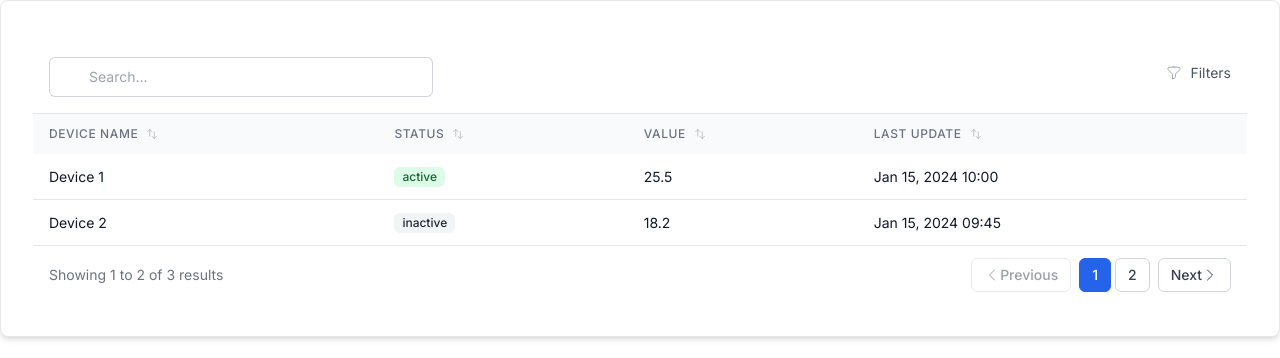
Test case: Component Integration Tests › Dashboard Layout Integration › handles data table interactions correctly
// Test search functionality
Type "Device 1" into the field with placeholder "Search...".
click(241, 77); type("Device 1")  # box [49, 57, 433, 97]
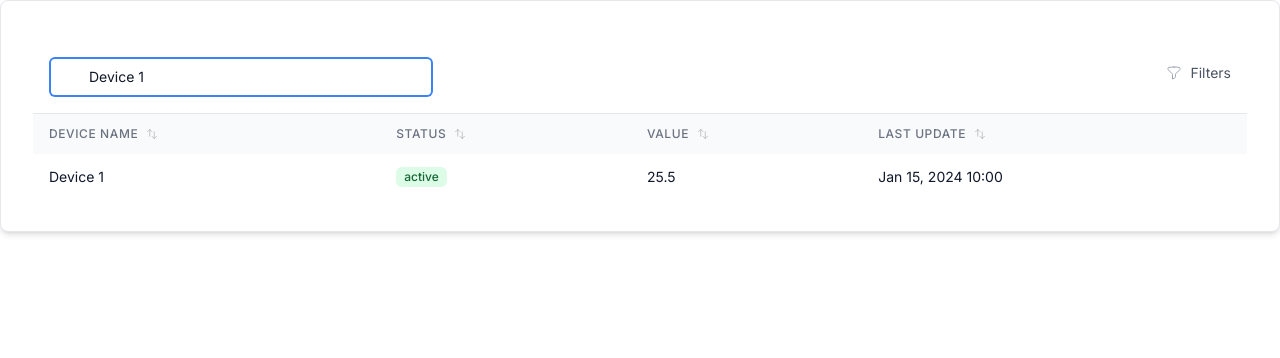
Expected: the text "Device 1" is shown, [33, 154, 380, 199]
Now the text "Device 2" is gone
// Clear search
Clear the field with placeholder "Search..." at (241, 77), box [49, 57, 433, 97]
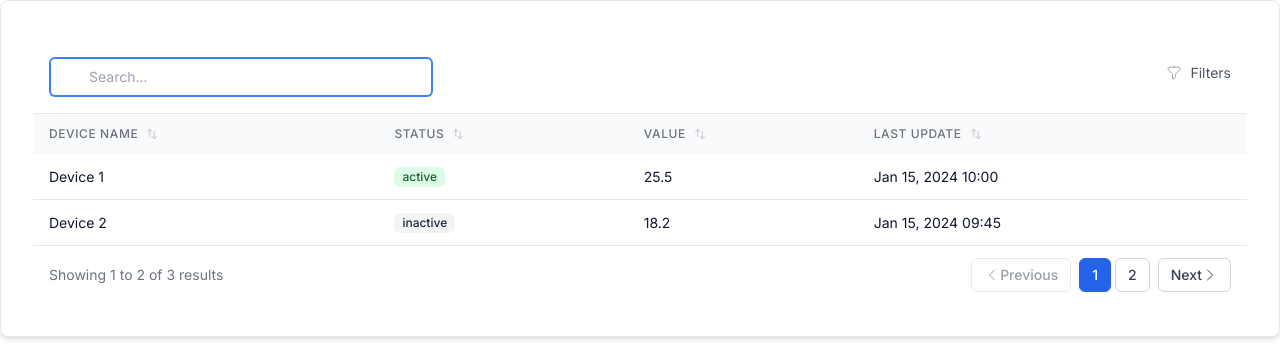
Expected: the text "Device 1" is shown, [33, 154, 378, 200]
Now the text "Device 2" is shown, box [33, 200, 378, 245]
